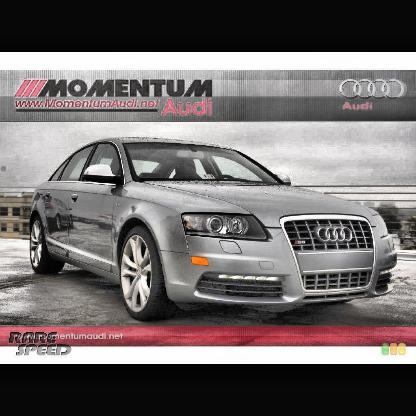Audi S6 Sedan 2011: (30, 138, 398, 322)
